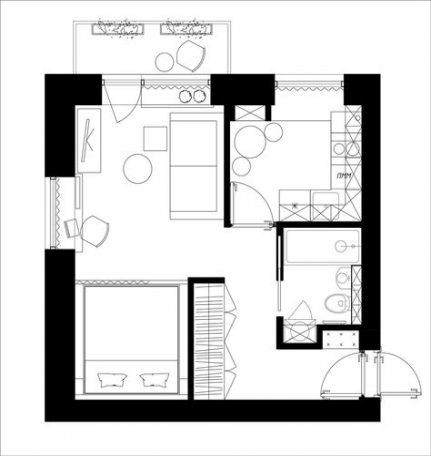door: (320, 348, 431, 400), (227, 176, 288, 233), (97, 72, 147, 127), (282, 299, 329, 328)
room: (44, 74, 231, 256), (44, 248, 195, 400), (213, 74, 354, 206), (279, 228, 381, 351), (193, 281, 281, 403), (277, 347, 387, 421)
wall: (344, 69, 391, 352), (42, 394, 382, 429), (33, 249, 82, 433), (35, 63, 88, 177), (213, 75, 239, 228), (39, 71, 106, 112), (211, 70, 277, 108), (270, 218, 378, 238), (271, 220, 289, 282), (314, 322, 378, 337), (275, 340, 329, 354), (272, 315, 291, 352), (315, 322, 326, 352)
window: (30, 175, 80, 254), (271, 70, 345, 100), (143, 70, 214, 99)
